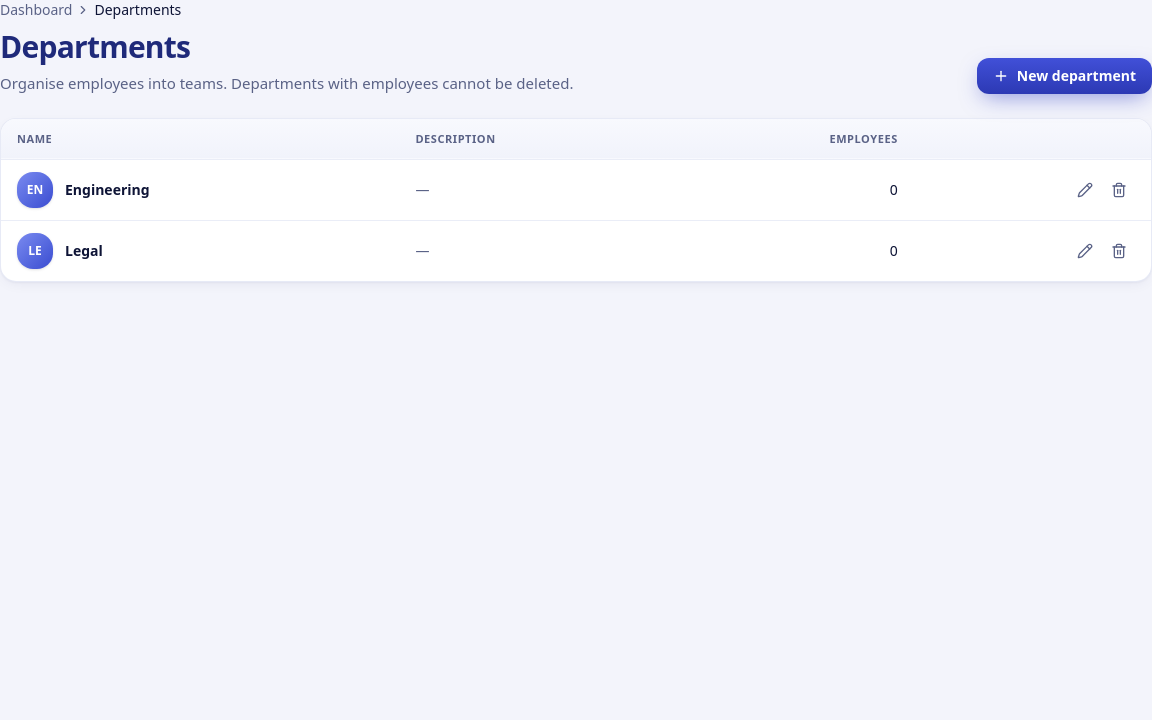
Test: <DepartmentManager> › deletes an empty department after confirmation
The width and height of the screenshot is (1152, 720).
Expected: the table named "Departments" is shown, x1=1 y1=119 x2=1151 y2=280
Click the button named "Delete Legal": (1119, 250) x1=1103 y1=234 x2=1135 y2=266
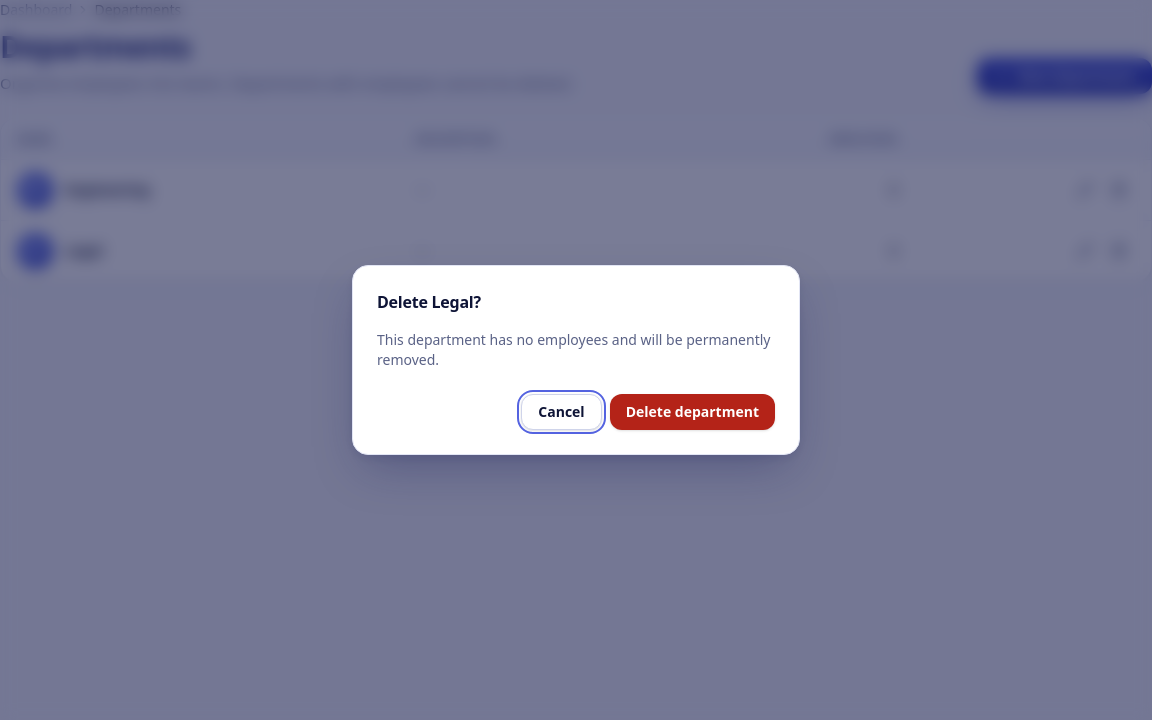
Click the button "Delete department": (692, 412) x1=610 y1=394 x2=775 y2=430
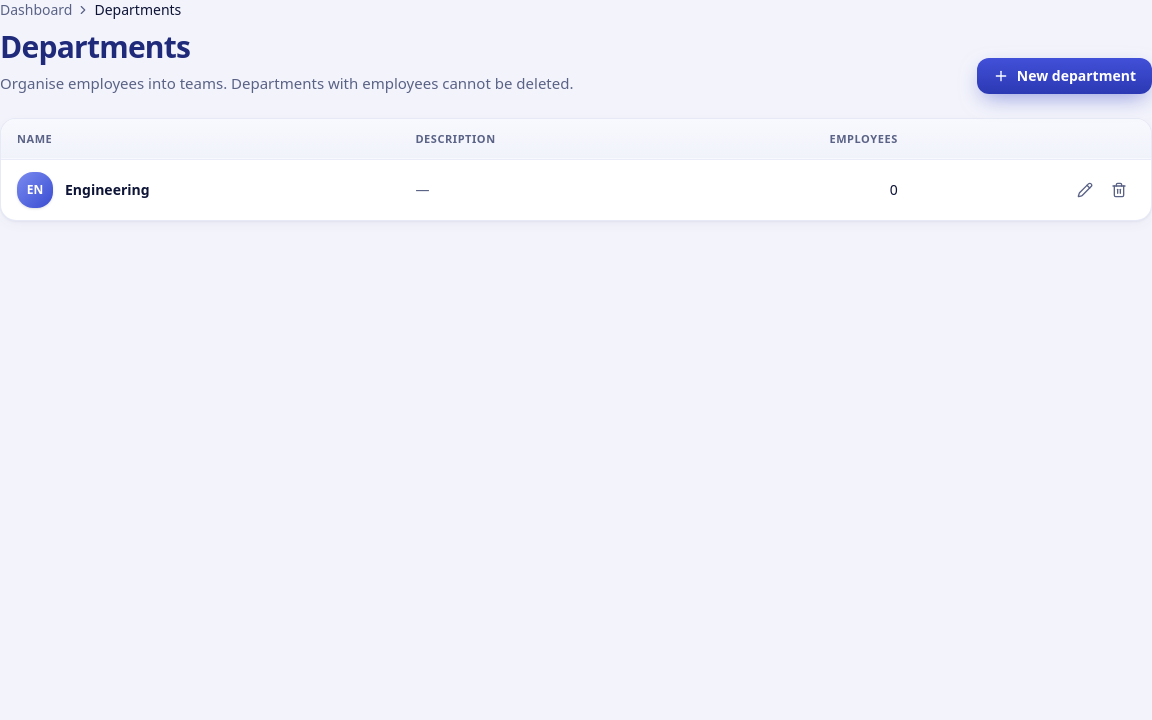
Expected: the text "Legal" is gone
